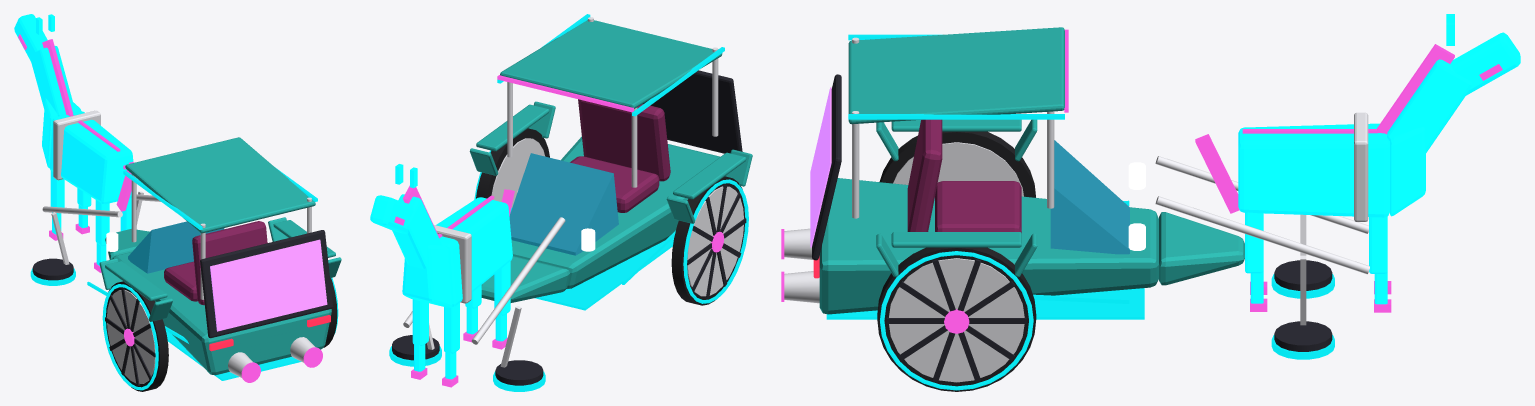
Rendered from hyper_horse_cart.glb.
3 renders of one model, left to right at view 1: azimuth 30°, elevation 25°; view 2: azimuth 150°, elevation 25°; view 3: azimuth 270°, elevation 25°, orthographic. The views are drawn at different scales.
Parts seen in each view (by area): view 1: body, wheel_rl, gallop_rl, gallop_fl, gallop_fr, wheel_rr; view 2: body, wheel_rl, wheel_rr, gallop_fr, gallop_fl, gallop_rl, gallop_rr; view 3: body, wheel_rr, wheel_rl, gallop_fr, gallop_rr.
Boxes of the visible parts, x1,y1,x2,y2 form: body: (14, 14, 341, 382); wheel_rl: (102, 281, 168, 391); gallop_rl: (94, 200, 109, 272); gallop_fl: (49, 171, 64, 240); gallop_fr: (75, 188, 91, 234); wheel_rr: (324, 278, 338, 347); body: (370, 14, 752, 391); wheel_rl: (671, 176, 748, 305); wheel_rr: (474, 128, 549, 207); gallop_fr: (411, 299, 428, 379); gallop_fl: (442, 303, 459, 387); gallop_rl: (492, 261, 510, 349); gallop_rr: (463, 285, 481, 342); body: (781, 14, 1520, 359); wheel_rr: (877, 247, 1036, 391); wheel_rl: (879, 131, 1035, 197); gallop_fr: (1369, 216, 1391, 312); gallop_rr: (1245, 212, 1267, 311).
Bounding box in the file's own units: 2.1 × 2.38 × 5.12.
